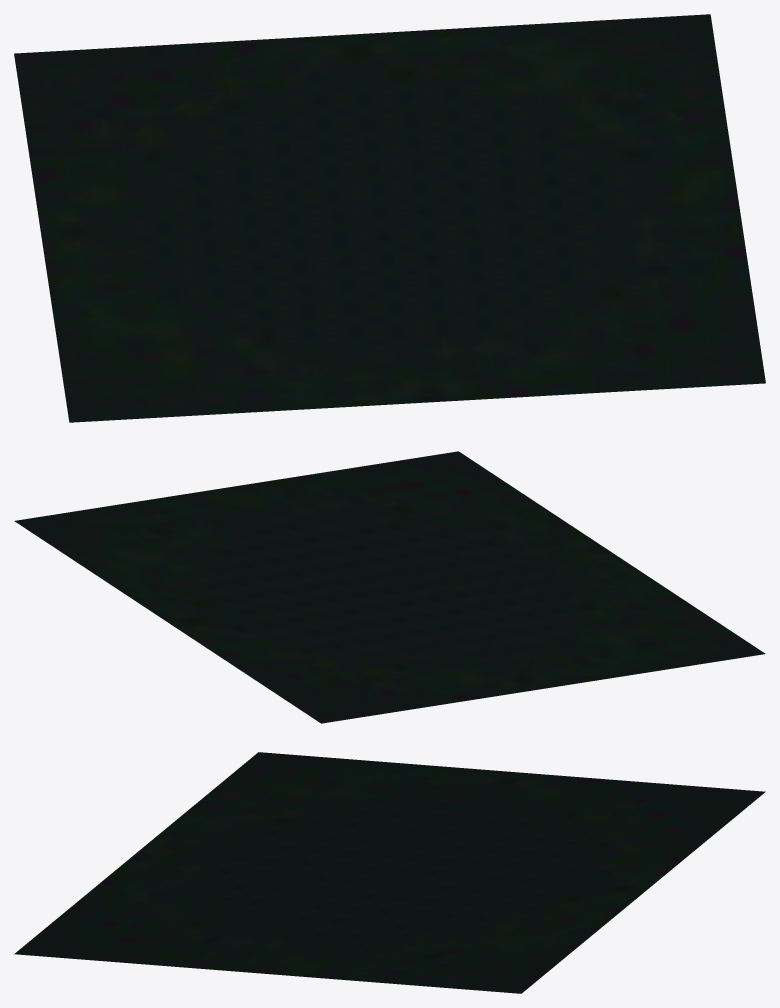
Rendered from Shadow_3.fbx.
3 views of the same model, one above another, from view 1: azimuth 30°, elevation 25°; view 2: azimuth 150°, elevation 25°; view 3: azimuth 270°, elevation 25° (orthographic). The views are drawn at different scales.
Parts seen in each view (by area): view 1: Shadow_3; view 2: Shadow_3; view 3: Shadow_3.
Part boxes in pixels (x1,y1,x2,y2): Shadow_3: (14,14,765,422); Shadow_3: (14,451,765,723); Shadow_3: (14,752,765,993).
Size of the model in its own units: 0.7732 by 0.0861 by 0.7737.
